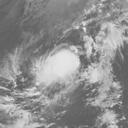cyclone: (4, 30, 116, 124)
